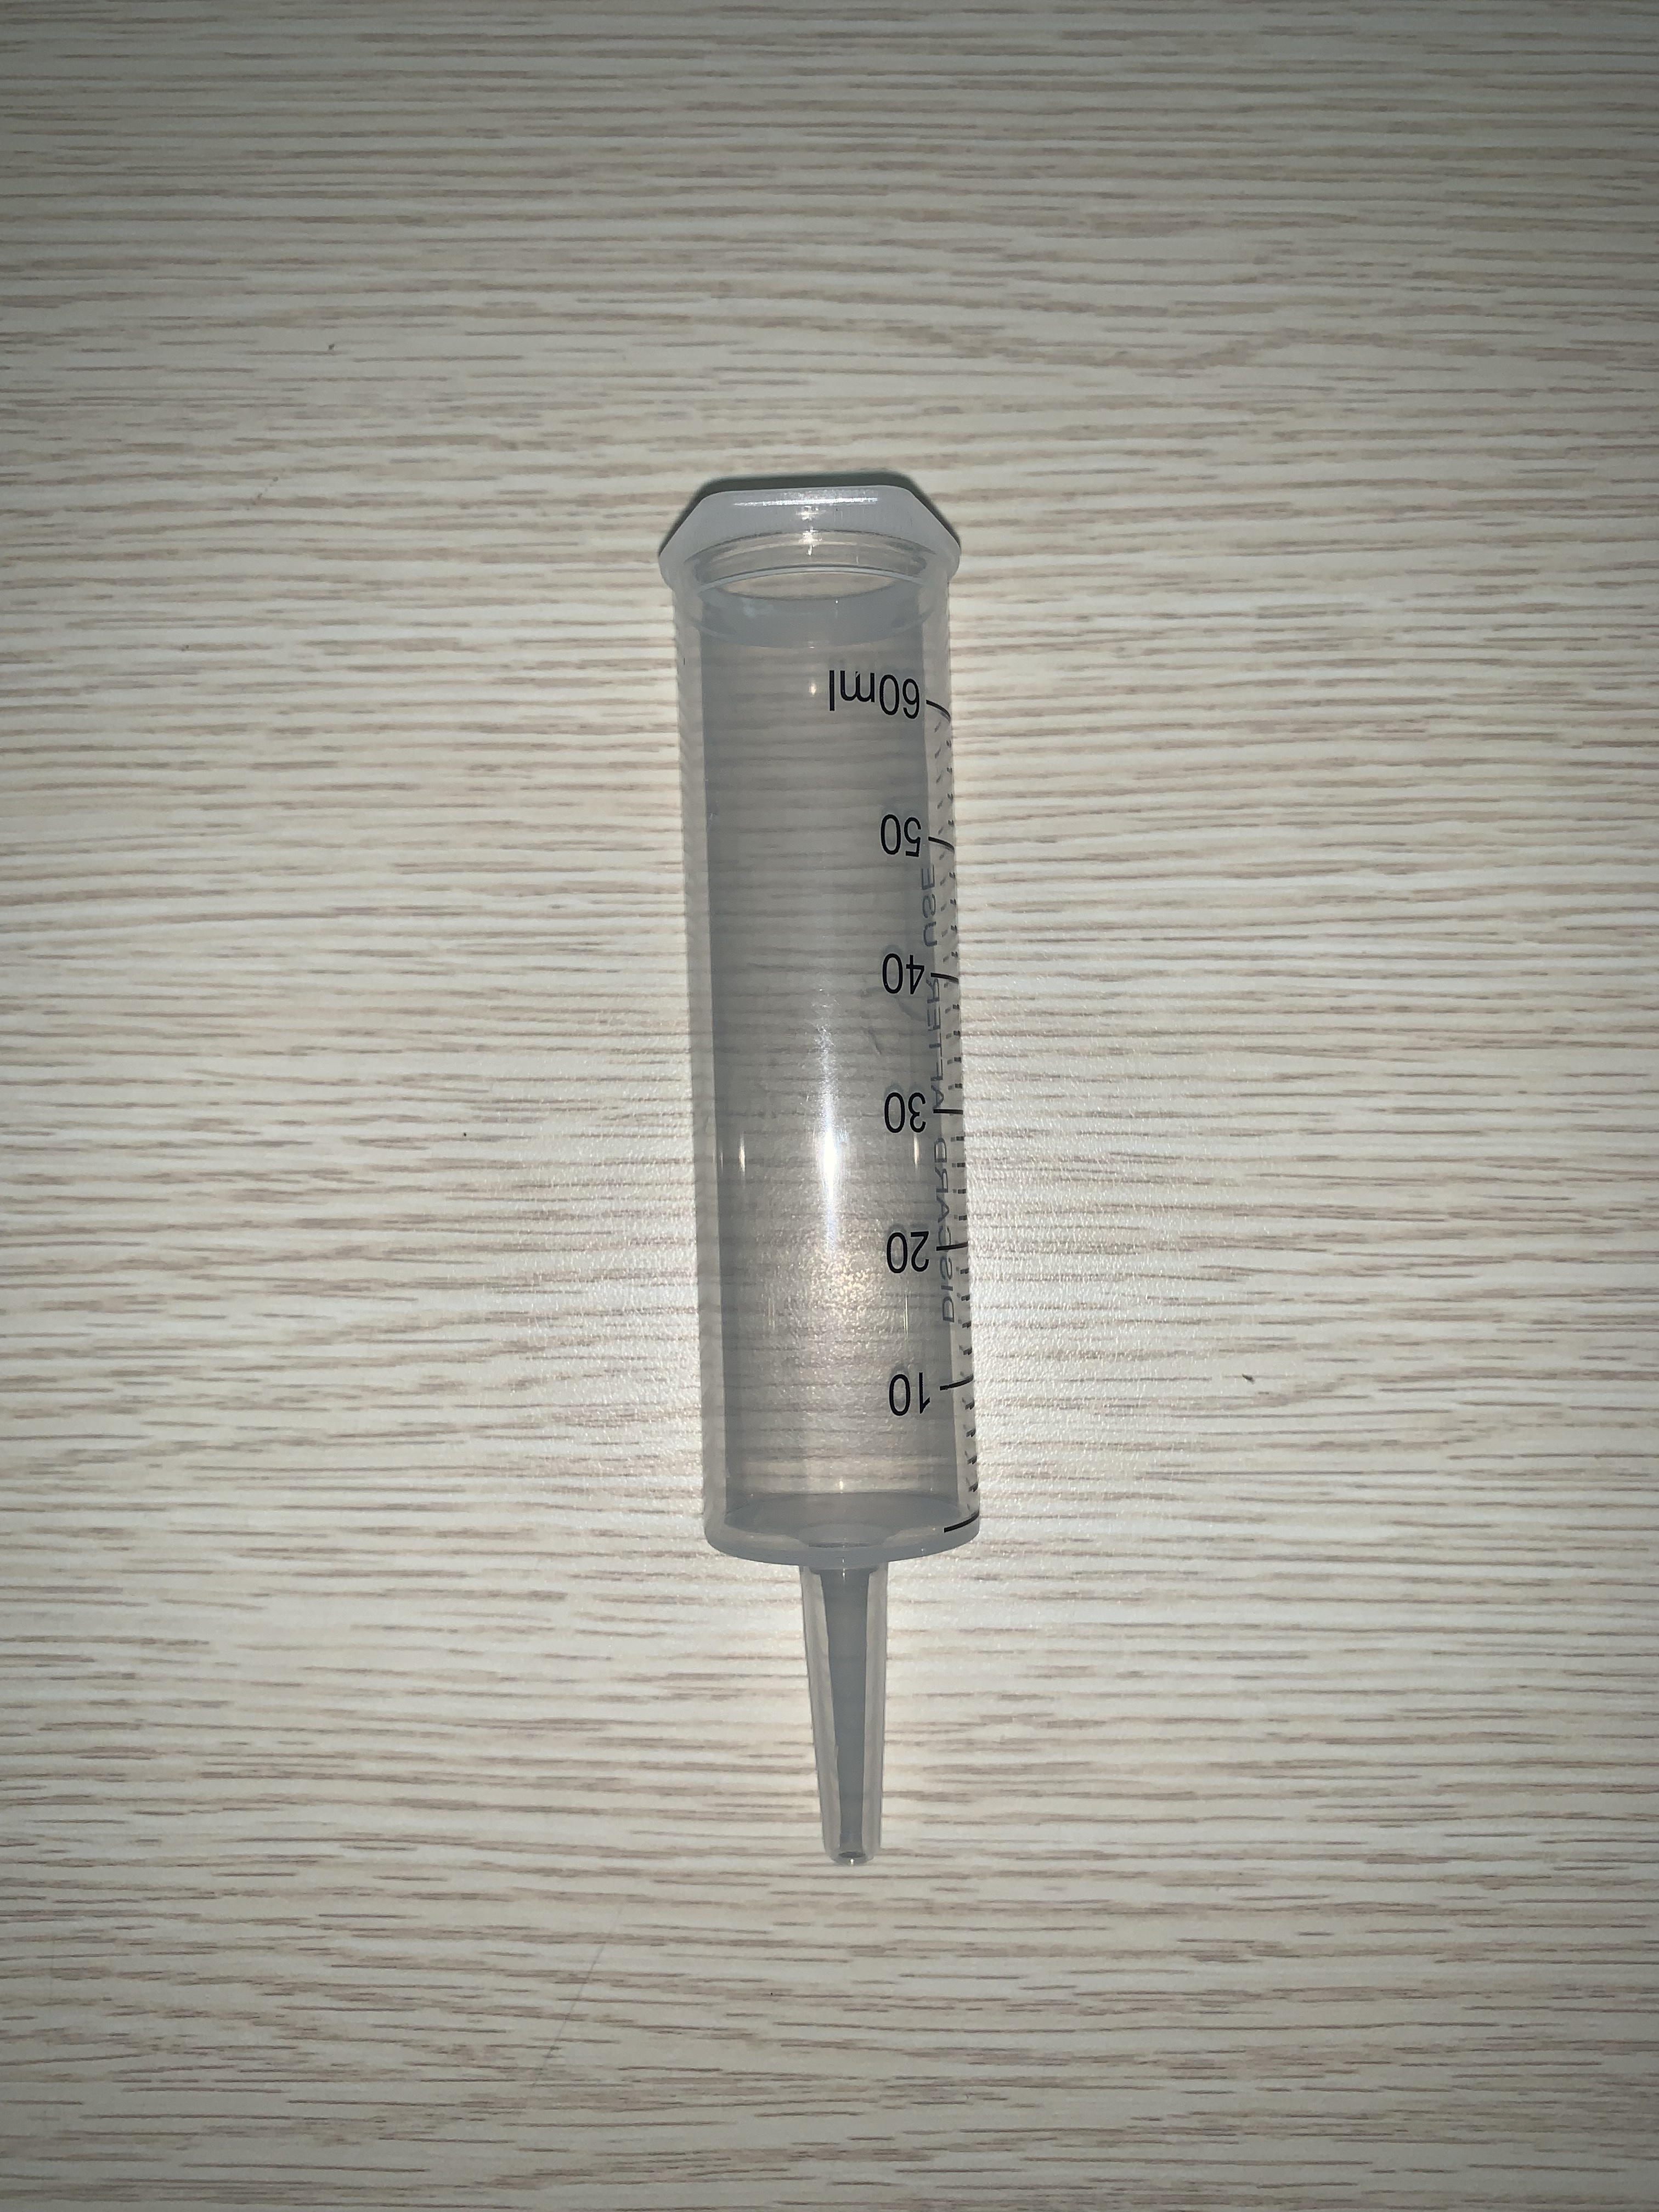syringe: (647, 458, 986, 1872)
